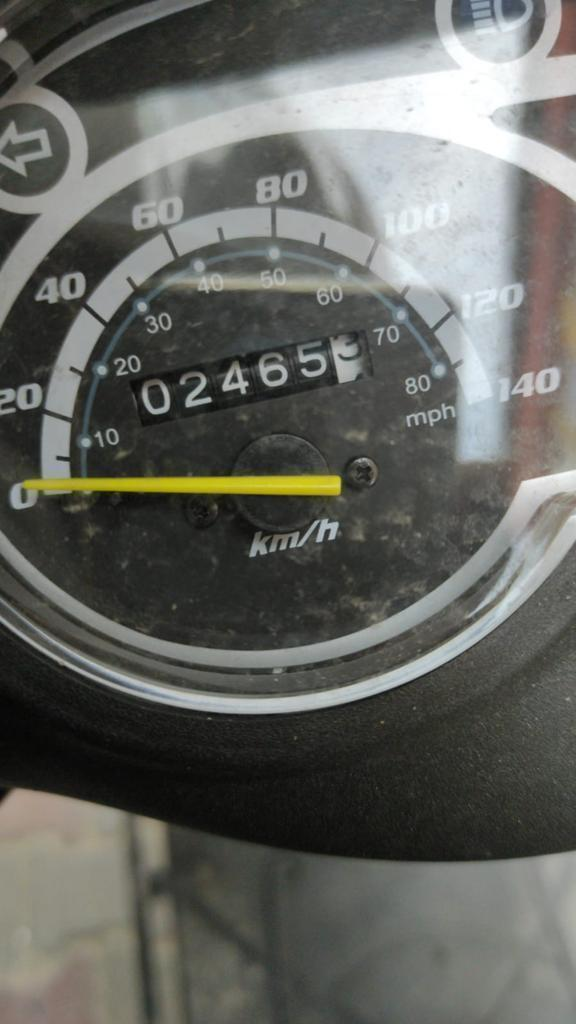0: (137, 379, 172, 419), (127, 353, 144, 374), (159, 311, 173, 335)
2: (175, 370, 213, 413), (114, 355, 129, 381)
3: (331, 326, 364, 364), (145, 313, 157, 336)
4: (217, 357, 251, 398)
5: (295, 338, 327, 382)
6: (256, 348, 291, 392)
7: (372, 325, 384, 346)
odometer: (116, 314, 385, 431)
